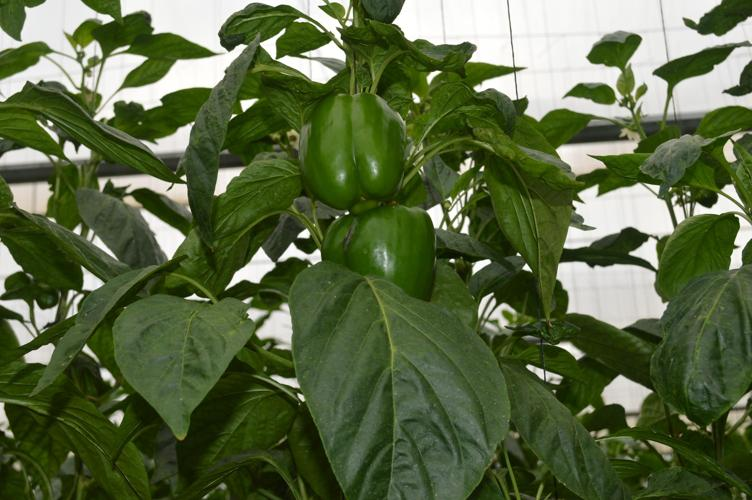BellPepper: (293, 95, 407, 203), (318, 201, 437, 296)
